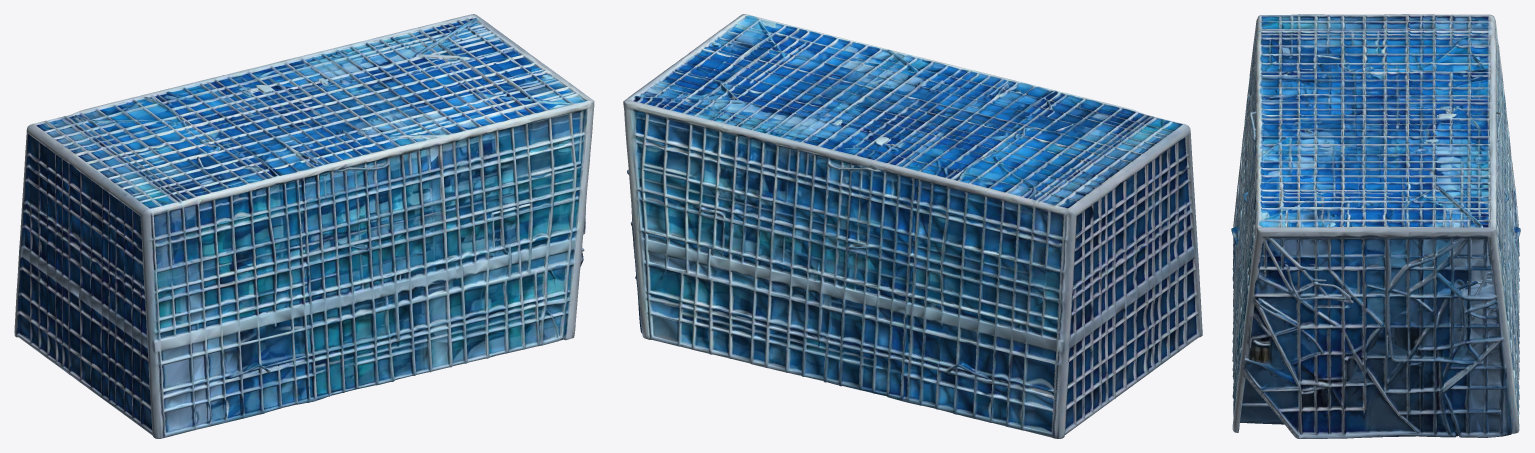
File: library.glb
3 views of the same model, side by side, from view 1: azimuth 30°, elevation 25°; view 2: azimuth 150°, elevation 25°; view 3: azimuth 270°, elevation 25° (orthographic).
Parts seen in each view (by area): view 1: tripo_node_df0c9dcd-d1e5-45c7-8081-169ef7a248c1; view 2: tripo_node_df0c9dcd-d1e5-45c7-8081-169ef7a248c1; view 3: tripo_node_df0c9dcd-d1e5-45c7-8081-169ef7a248c1.
Part boxes in pixels (left/top/right/bottom): tripo_node_df0c9dcd-d1e5-45c7-8081-169ef7a248c1: left=14, top=14, right=594, bottom=438; tripo_node_df0c9dcd-d1e5-45c7-8081-169ef7a248c1: left=623, top=14, right=1202, bottom=438; tripo_node_df0c9dcd-d1e5-45c7-8081-169ef7a248c1: left=1231, top=14, right=1520, bottom=438.
Size of the model in its own units: 1 by 0.4705 by 0.5583.
Materials: 1 (1 with a texture image).
